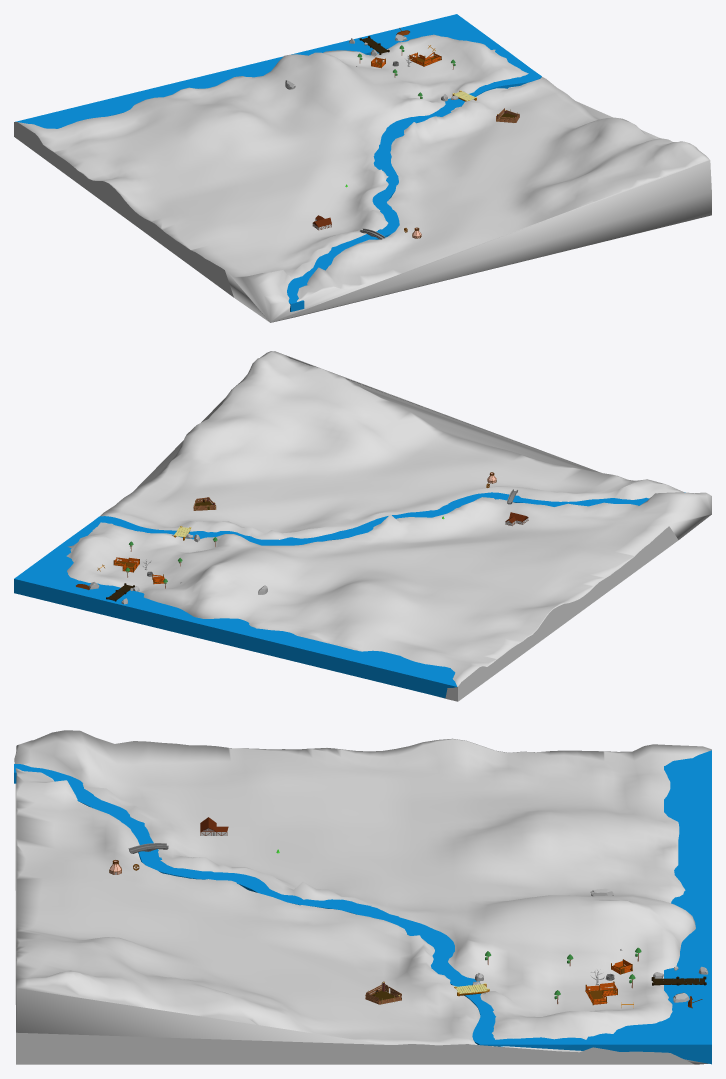
The model's file is terrain.fbx.
The picture shows the model from 3 angles, top to bottom: view 1: azimuth 30°, elevation 25°; view 2: azimuth 150°, elevation 25°; view 3: azimuth 270°, elevation 25°; orthographic projection. The views are drawn at different scales.
Parts seen in each view (by area): view 1: Cube.003, River; view 2: Cube.003, River; view 3: Cube.003, River, EvansShanty.031.
Boxes of the visible parts, x1,y1,x2,y2 form: Cube.003: (14, 34, 711, 322); River: (15, 14, 541, 311); Cube.003: (66, 351, 711, 701); River: (14, 492, 685, 698); Cube.003: (14, 730, 711, 1064); River: (14, 750, 711, 1064); EvansShanty.031: (365, 981, 401, 1004).
Size of the model in its own units: 100000 by 13411 by 100000.
